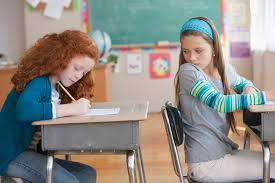student: (12, 20, 123, 138)
studentcopying: (159, 8, 263, 180)
